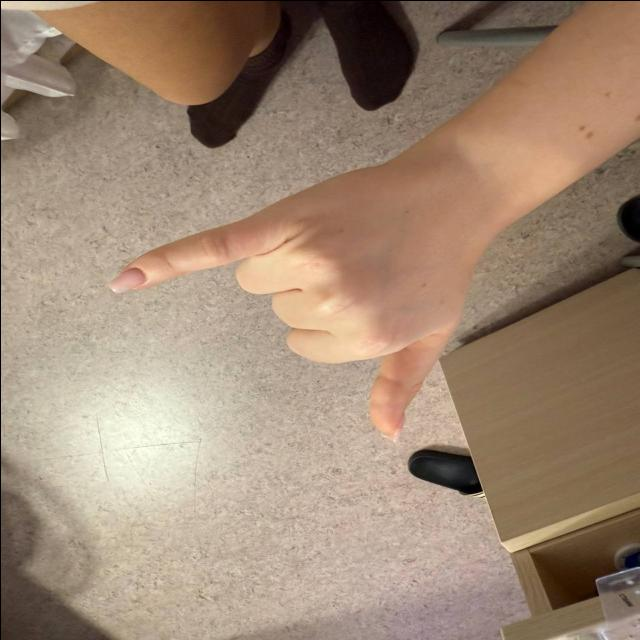u: (98, 172, 469, 448)
